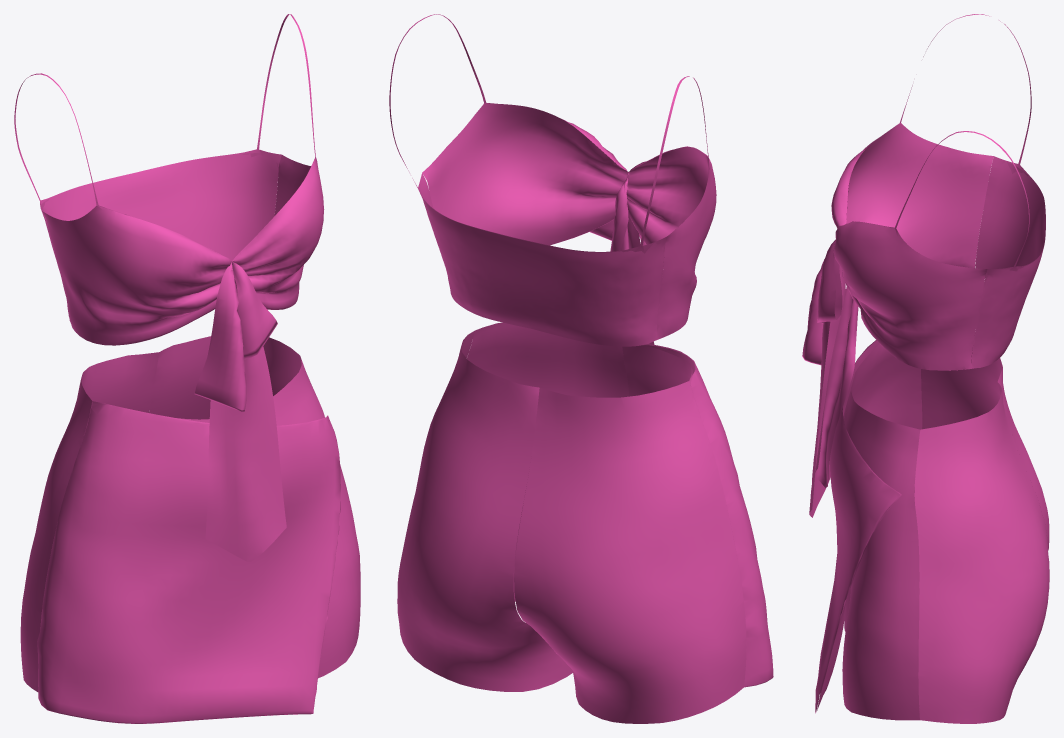
The model's file is 12_POPPI_F.fbx.
3 views of the same model, side by side, from view 1: azimuth 30°, elevation 25°; view 2: azimuth 150°, elevation 25°; view 3: azimuth 270°, elevation 25° (orthographic). The views are drawn at different scales.
Parts seen in each view (by area): view 1: 12_POPPI_F; view 2: 12_POPPI_F; view 3: 12_POPPI_F.
Boxes of the visible parts, x1,y1,x2,y2 form: 12_POPPI_F: (14,14,360,723); 12_POPPI_F: (389,14,773,723); 12_POPPI_F: (802,14,1049,723).
Size of the model in its own units: 0.386 by 0.7126 by 0.2614.
